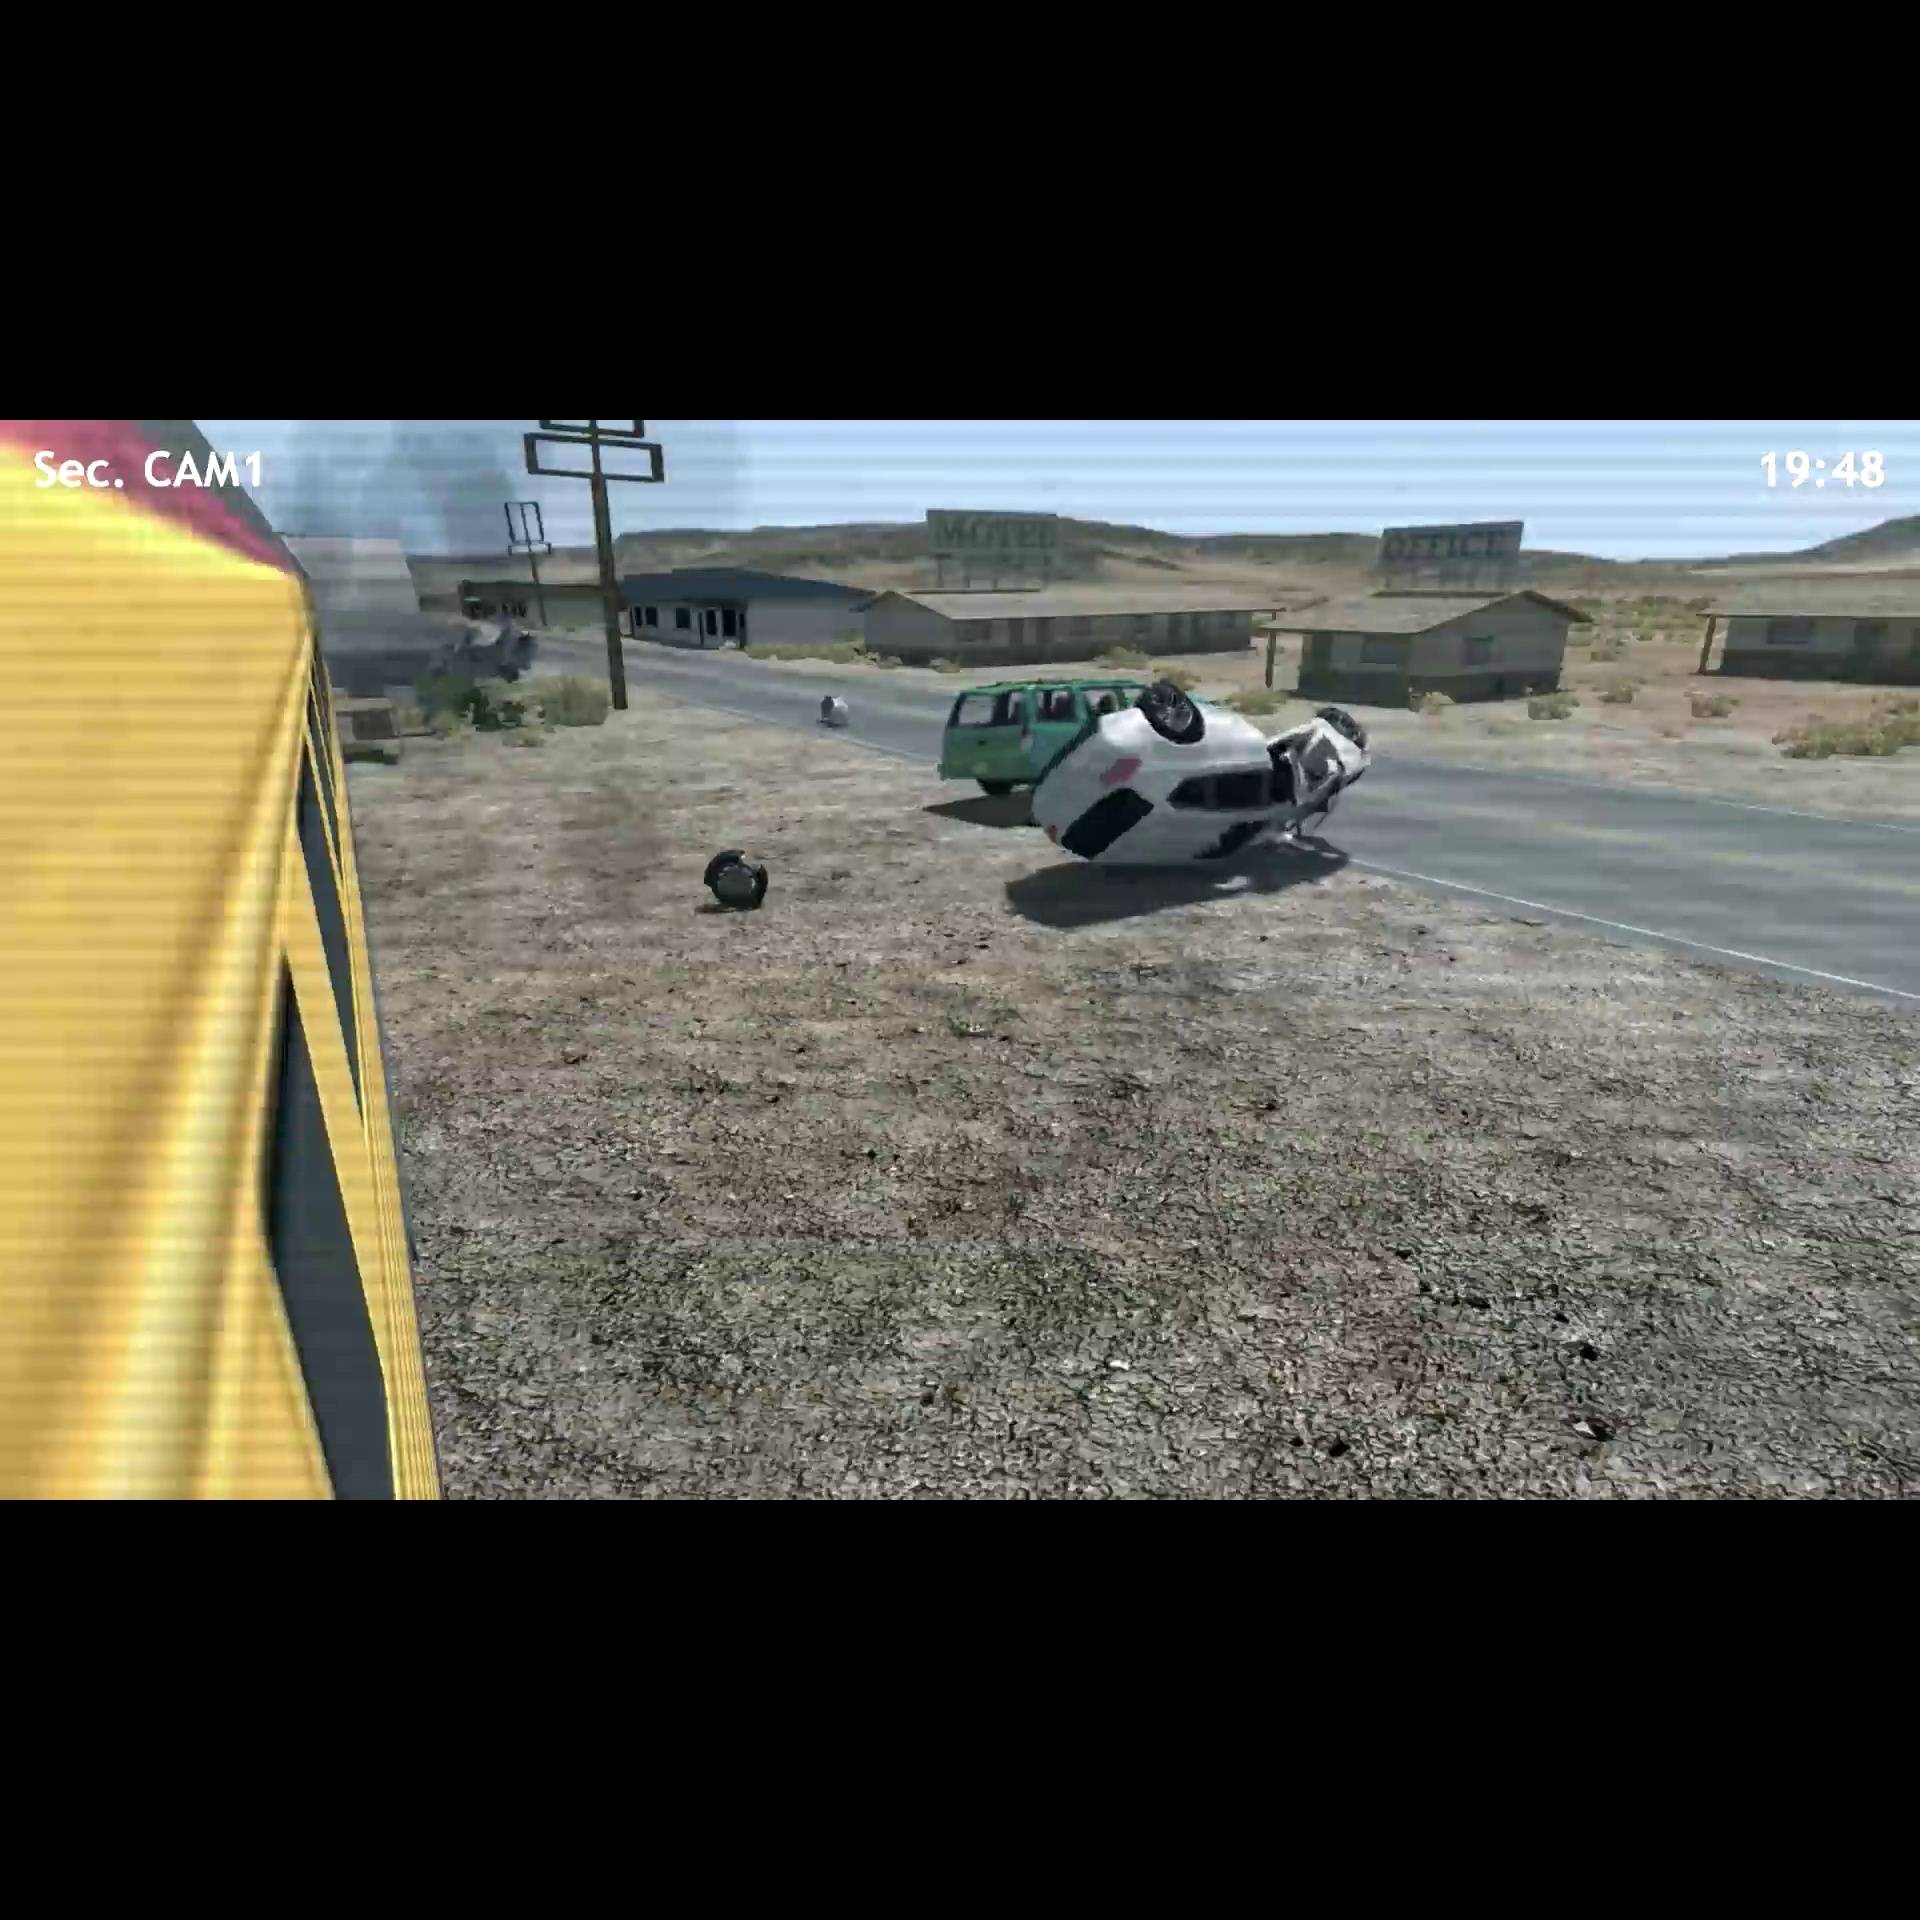vehicle: (1029, 686, 1382, 877), (930, 672, 1146, 774)
